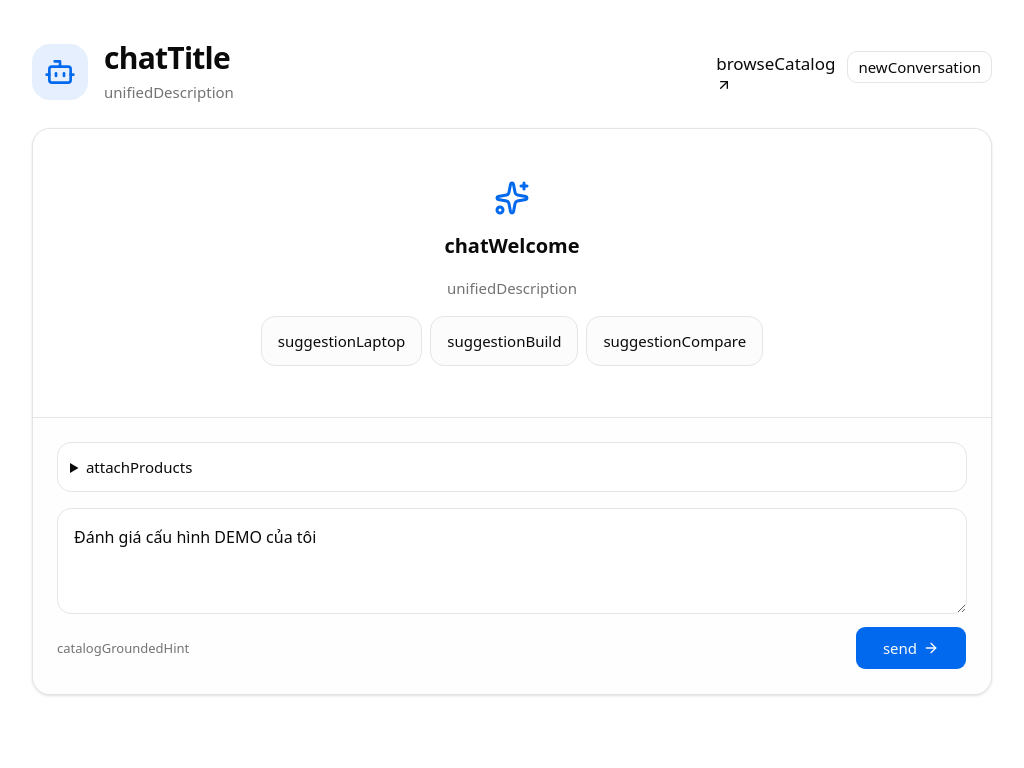
Test: prefills the build question without auto-sending or attaching mock product IDs
expect the text box named "promptLabel" holds "Đánh giá cấu hình DEMO của tôi": met, box [57,508,967,614]
Click the button "send" at (911, 648), box [855,626,967,670]
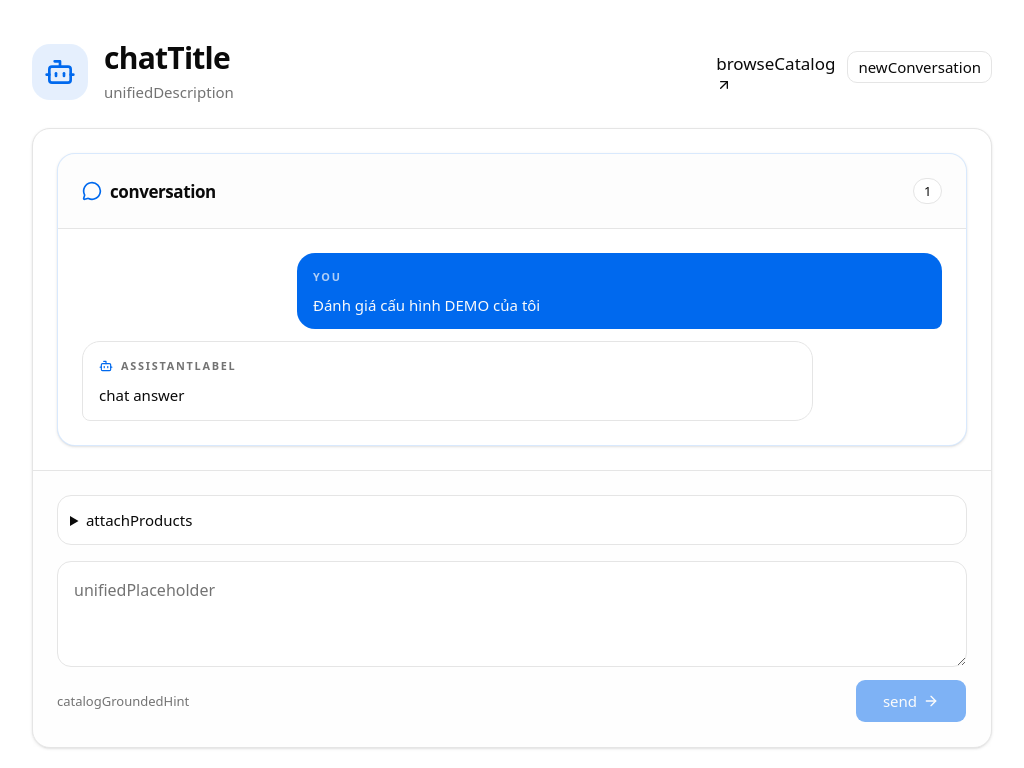
expect the text "chat answer" is shown: met, box [99,385,184,405]
